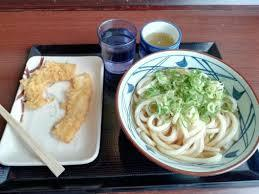pumpkin: (23, 64, 75, 106)
